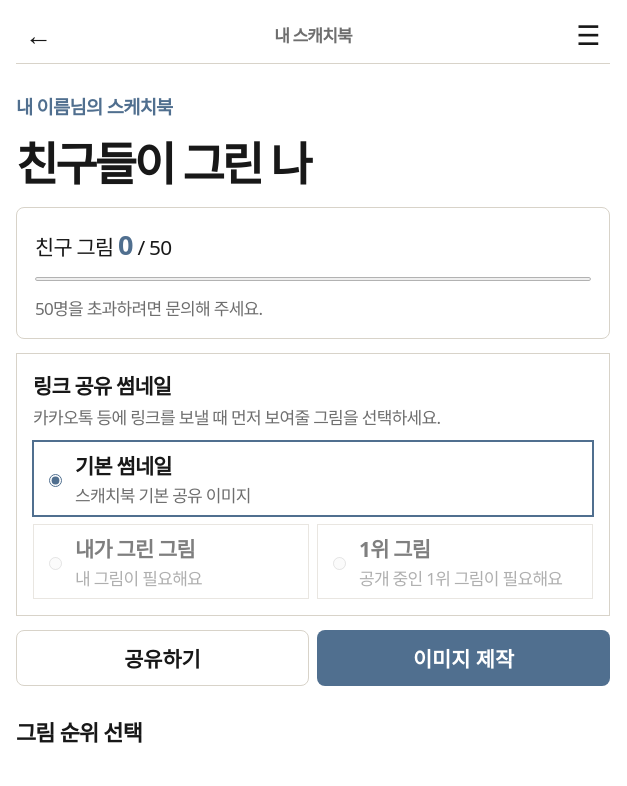
Test: ManageDashboard 친구 그림 추가 결제 › 공유창 완료 결과를 메뉴가 닫힌 뒤에도 화면에 알린다
The width and height of the screenshot is (627, 786).
Click the heading named "메뉴": (588, 34) 576,16 -> 600,53
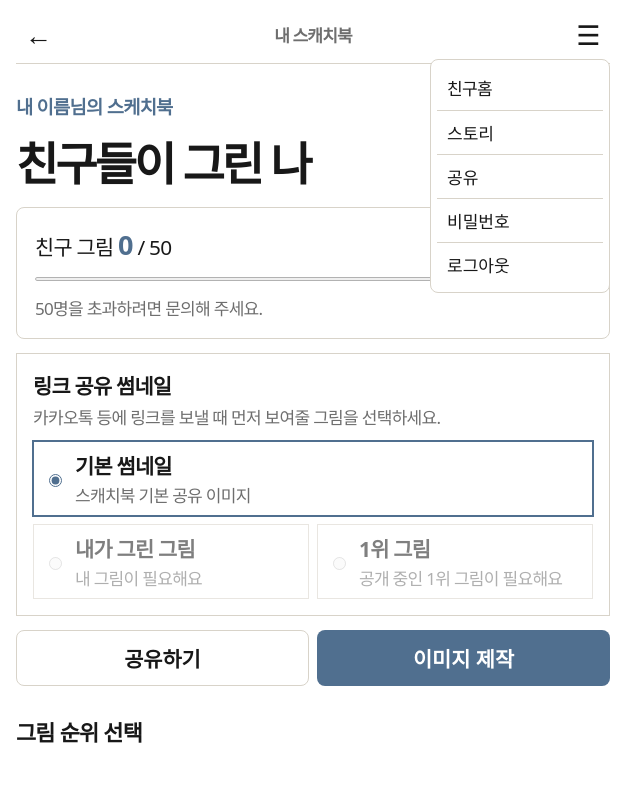
Click the button with aria-label "공유하기": (520, 176) 437,154 -> 603,198
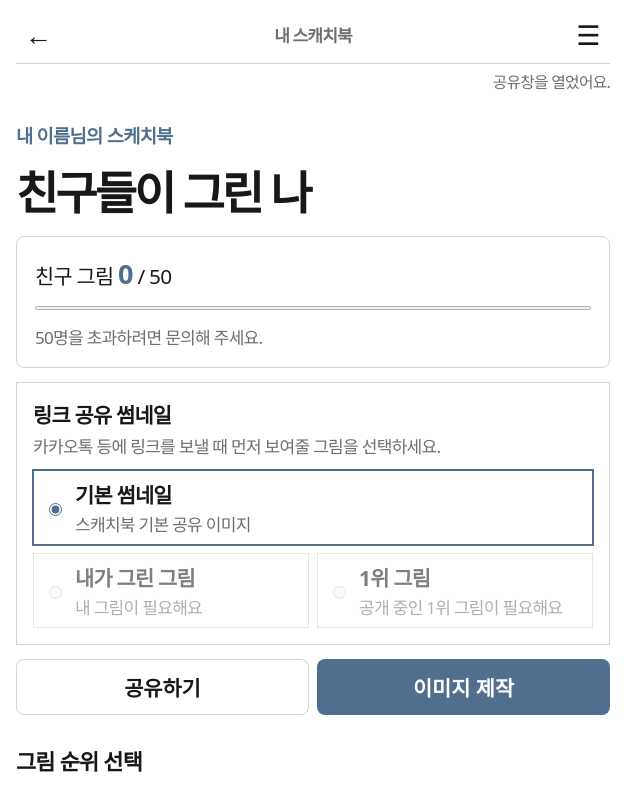
Expected: the message reads "공유창을 열었어요.", 493,71 -> 610,93
